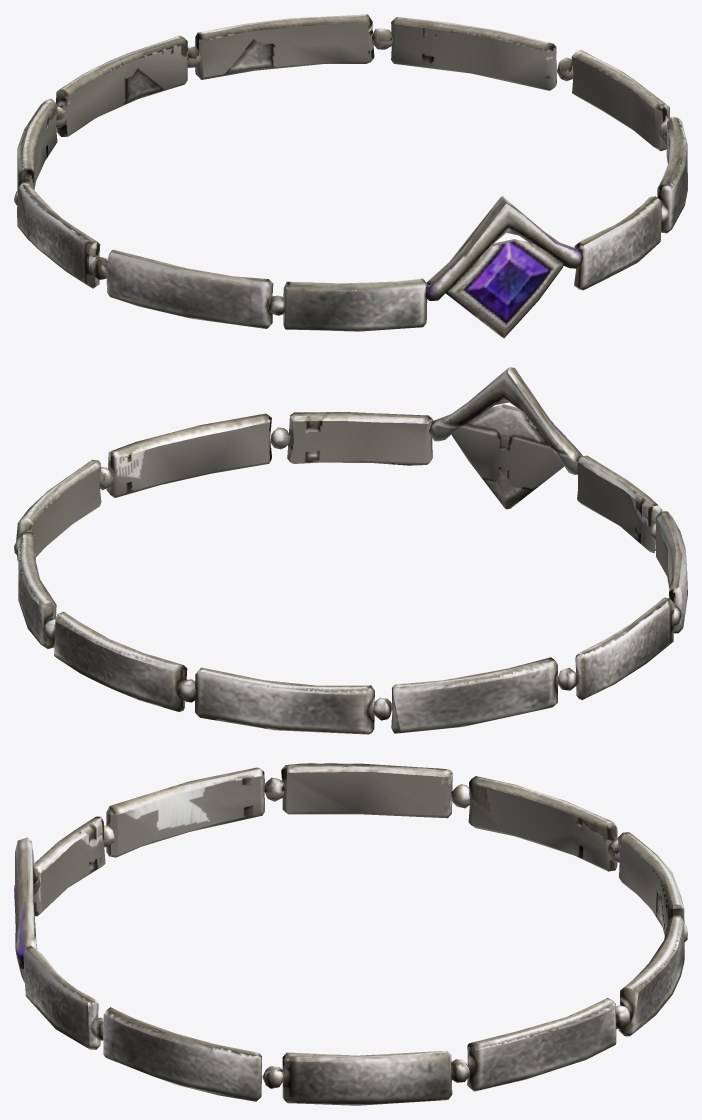
Rendered from item_6crown2.glb.
3 renders of one model, top to bottom at view 1: azimuth 30°, elevation 25°; view 2: azimuth 150°, elevation 25°; view 3: azimuth 270°, elevation 25°, orthographic. The views are drawn at different scales.
Visible parts, largest first — view 1: equipment_6crown2; view 2: equipment_6crown2; view 3: equipment_6crown2.
Part boxes in pixels (box(x1,y1,x2,y2)): equipment_6crown2: box(14, 14, 687, 338); equipment_6crown2: box(14, 367, 687, 734); equipment_6crown2: box(14, 763, 687, 1105).
Size of the model in its own units: 1 by 0.2322 by 0.9673.
Materials: 1 (1 with a texture image).
